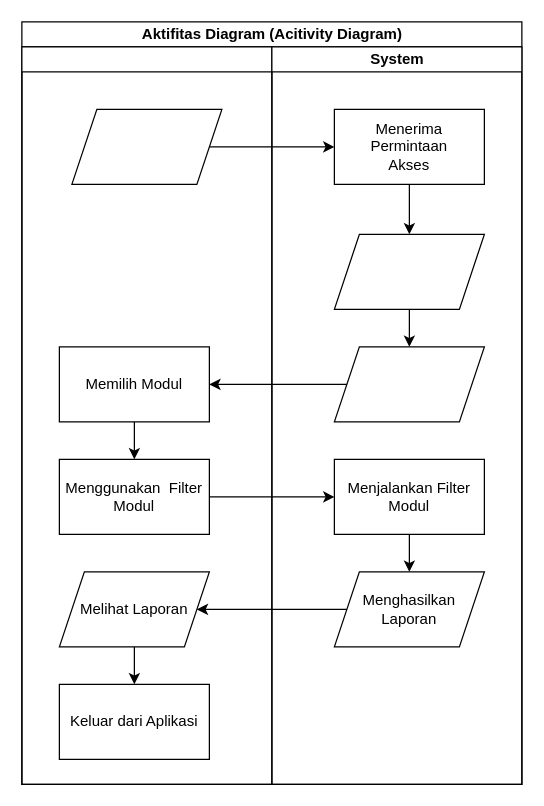
The diagram is 544 pixels wide and 806 high, and some of its shapes have lost their labels. Here are the shapes that lost their labels. From the top down, the box of each, then its label:
(71, 108, 222, 184): Mengakses Aplikasi
(333, 233, 484, 309): Mengarahkan ke Beranda
(333, 346, 484, 422): Menampilkan Modul
(21, 46, 272, 784): User
